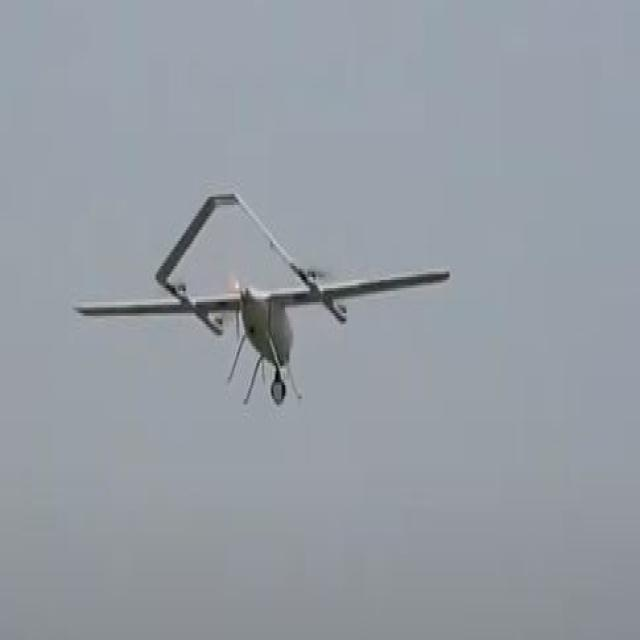iha: (70, 192, 452, 409)
